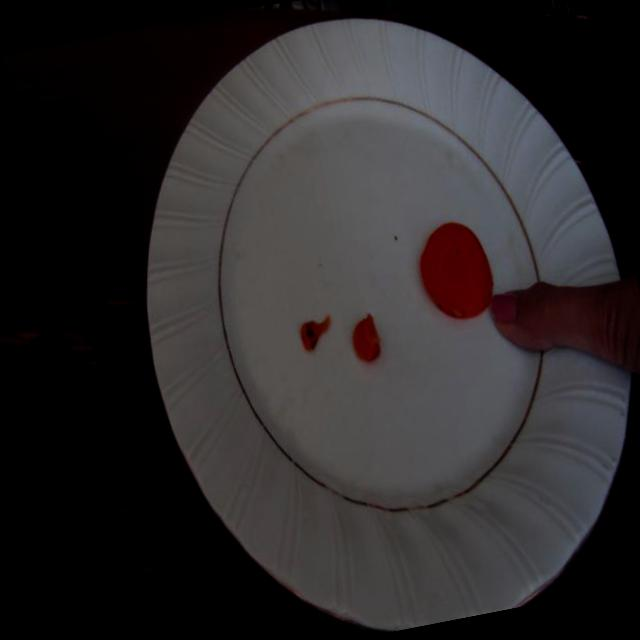Carrot: (406, 206, 506, 332)
Finger: (478, 264, 582, 376)
